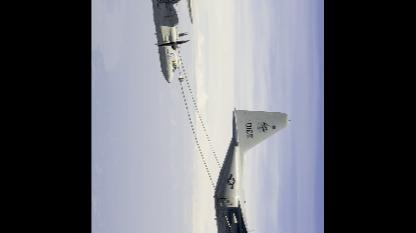Be200: (214, 107, 292, 232)
C5: (147, 0, 194, 84)
